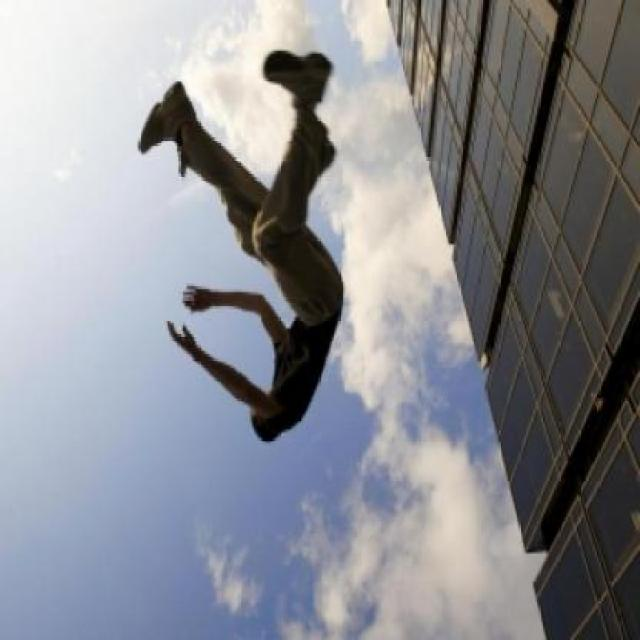fall: (133, 44, 349, 444)
